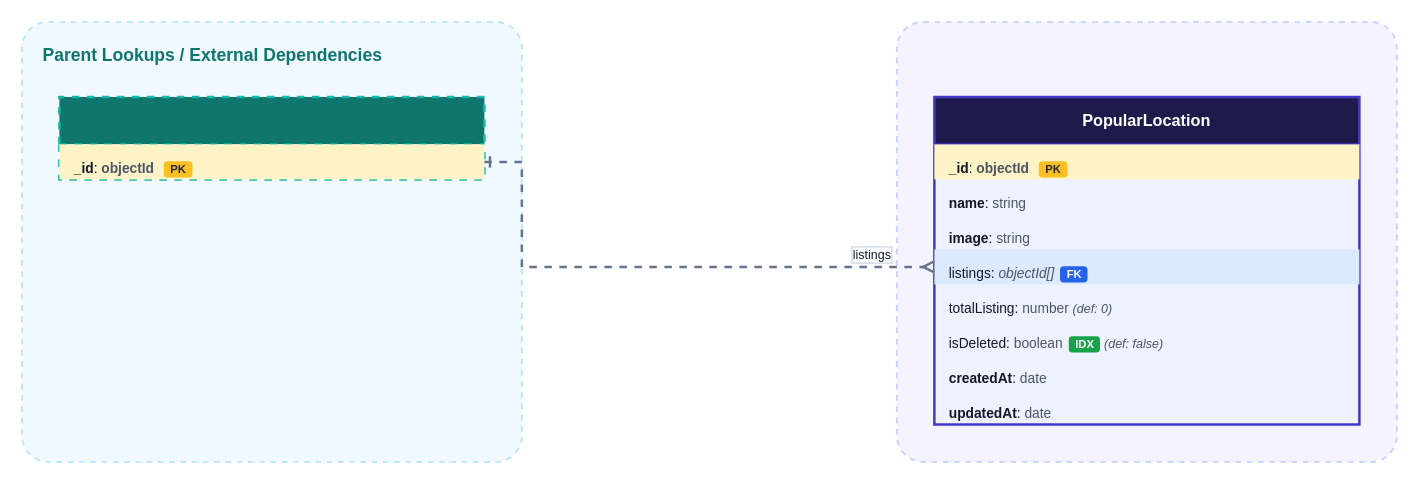
This 1420x485 diagram has some shape labels left out. Here are the shapes that lost their labels. From the top down, the box of each, then its label:
(58, 95, 485, 180): Listing
(895, 20, 1397, 462): Core Module: PopularLocation
